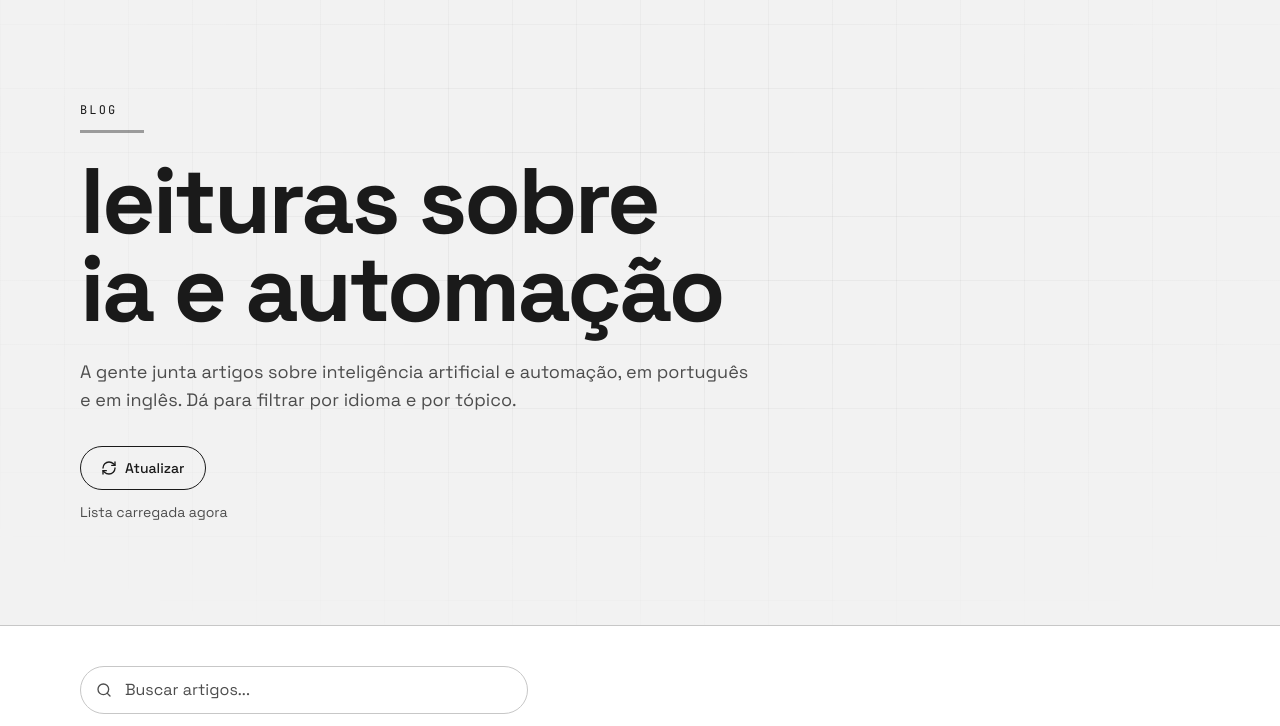
Test case: BlogPage result count as a live region › does not announce the empty results block a second time: the count says it, the block is plain text
This screenshot has width=1280, height=726.
Type "nada disso existe" into the field labelled "Buscar artigos" at (304, 690), box [80,666,528,714]
(page scrolled)
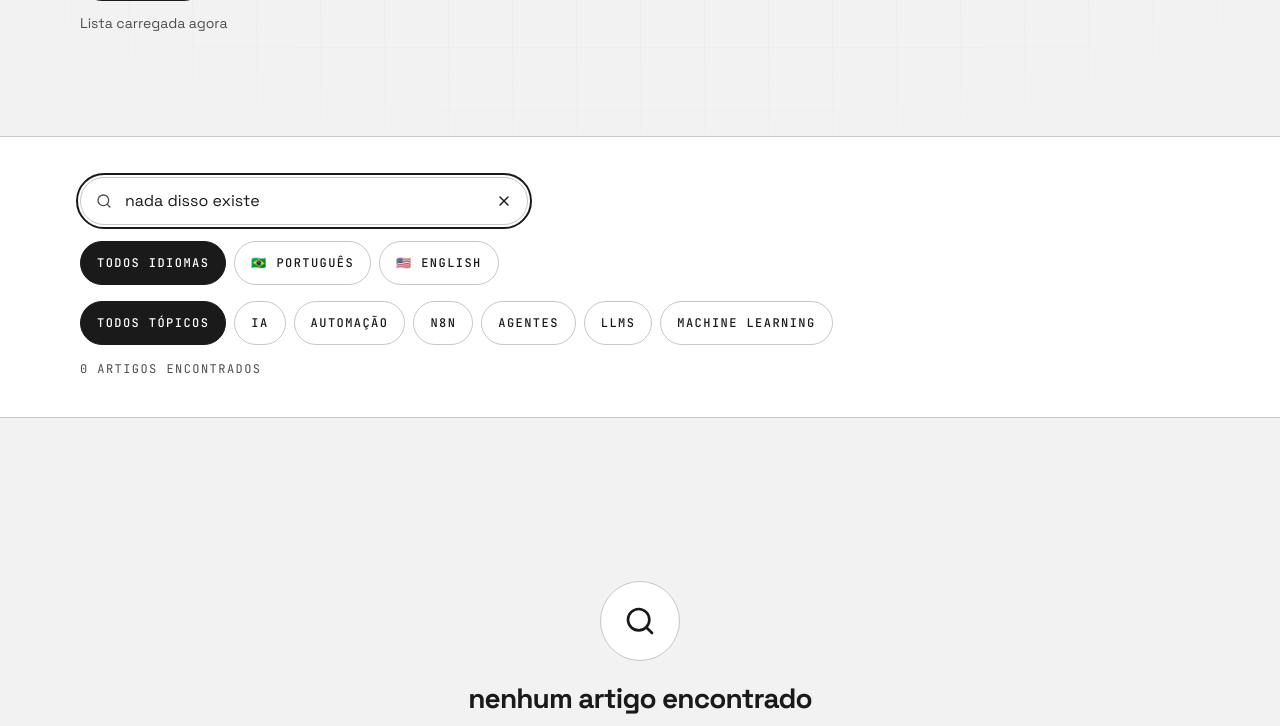
Result: the text "0 artigos encontrados" is shown once at [80,361,262,377]
